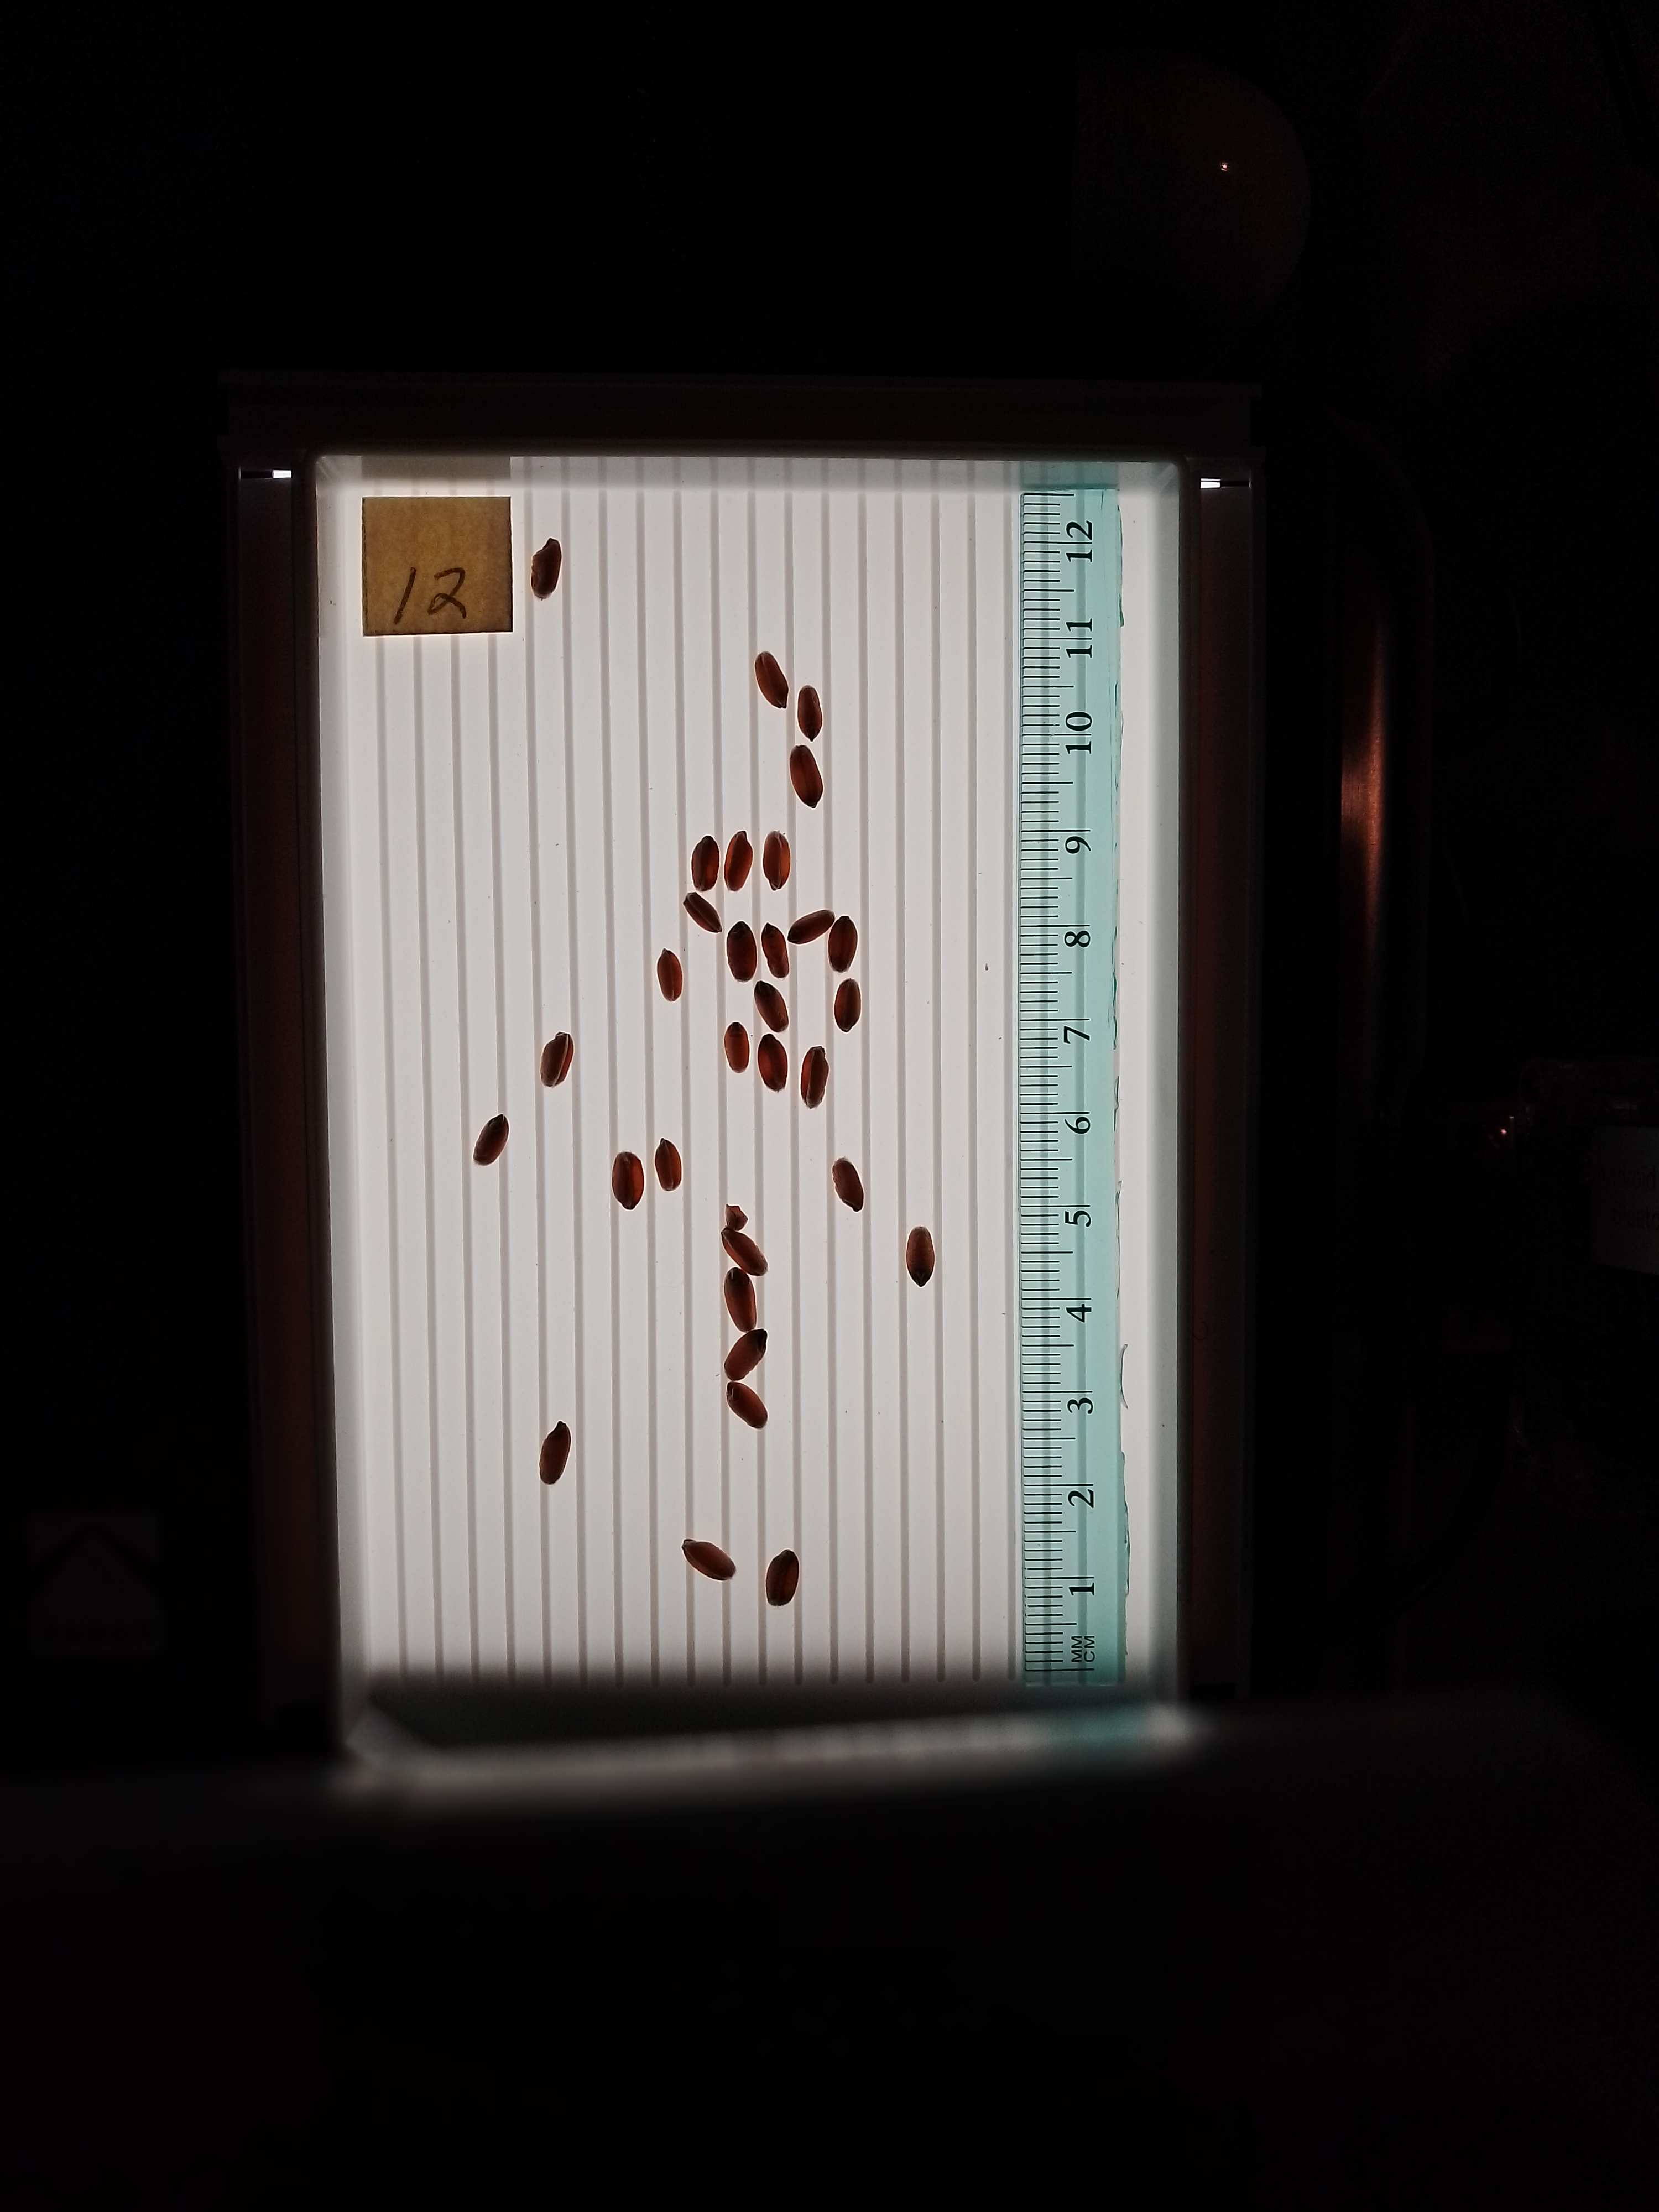seed mask: (721, 1226, 769, 1278), (723, 1327, 769, 1379), (681, 1538, 737, 1580), (723, 1266, 758, 1332), (538, 1420, 573, 1486), (610, 1150, 647, 1211), (788, 745, 823, 808), (471, 1113, 511, 1167), (763, 1548, 800, 1606), (540, 1031, 575, 1089), (904, 1224, 936, 1287), (727, 1381, 769, 1428), (727, 920, 758, 982), (530, 538, 561, 599), (800, 1045, 830, 1109), (755, 651, 788, 709), (756, 1033, 788, 1092), (755, 981, 789, 1033), (723, 831, 753, 892), (828, 914, 857, 974), (762, 831, 791, 890), (833, 1158, 864, 1212), (681, 892, 721, 934), (788, 909, 835, 944), (653, 1136, 681, 1191), (833, 977, 861, 1033), (692, 836, 720, 892), (762, 923, 789, 977), (655, 948, 683, 1001), (796, 685, 823, 742), (723, 1022, 749, 1075), (725, 1204, 748, 1231)
